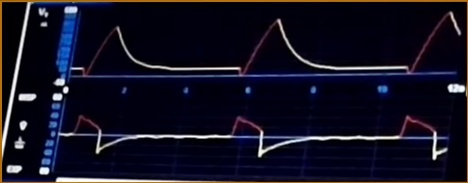Flow: (67, 104, 448, 175)
Leakage Volume: (75, 11, 465, 82)
